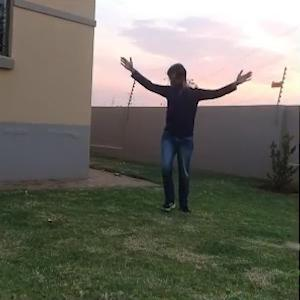takeoff: (118, 43, 258, 207)
